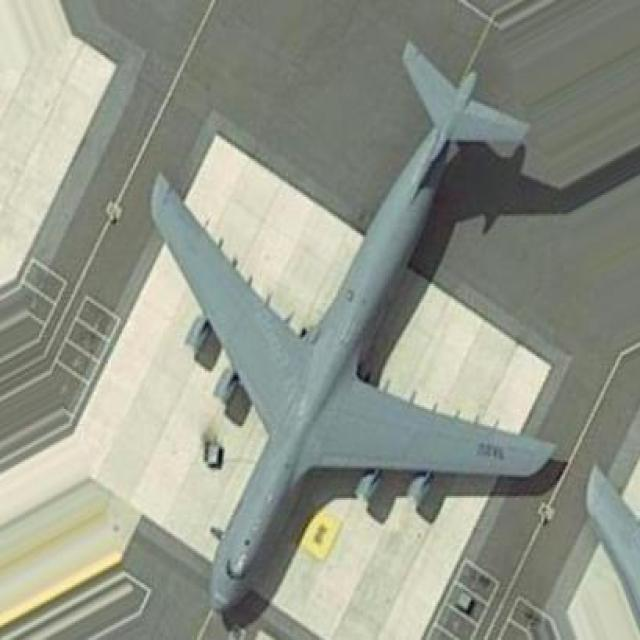C-5_TopDown: (146, 34, 571, 634)
